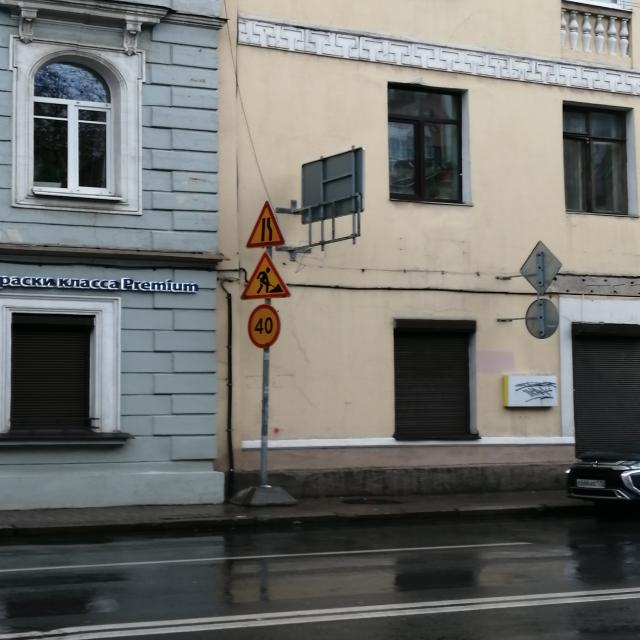road sign: (241, 256, 290, 300), (242, 201, 286, 247), (259, 348, 271, 487)
